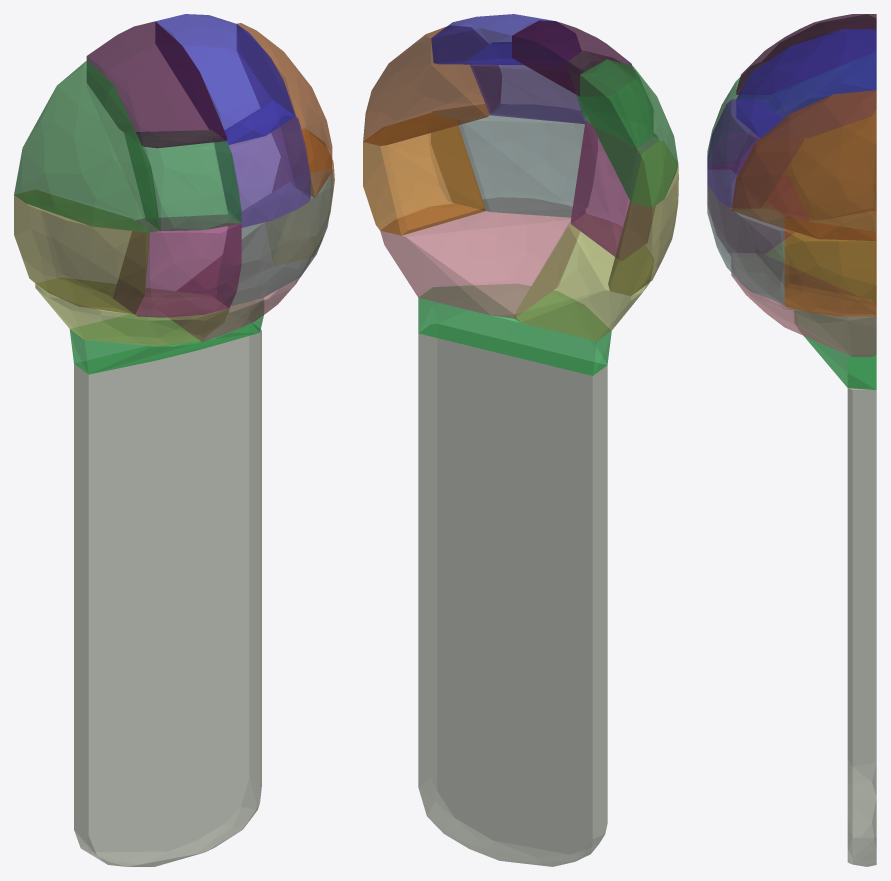
The model's file is orange_spoon_vhacd.obj.
3 renders of one model, left to right at view 1: azimuth 30°, elevation 25°; view 2: azimuth 150°, elevation 25°; view 3: azimuth 270°, elevation 25°, orthographic. The views are drawn at different scales.
Parts seen in each view (by area): view 1: Shape_IndexedFaceSet, Shape_IndexedFaceSet.003, Shape_IndexedFaceSet.006, Shape_IndexedFaceSet.009, Shape_IndexedFaceSet.013, Shape_IndexedFaceSet.007, Shape_IndexedFaceSet.010, Shape_IndexedFaceSet.008, Shape_IndexedFaceSet.012, Shape_IndexedFaceSet.002, Shape_IndexedFaceSet.005, Shape_IndexedFaceSet.001 (+2 smaller); view 2: Shape_IndexedFaceSet, Shape_IndexedFaceSet.004, Shape_IndexedFaceSet.010, Shape_IndexedFaceSet.001, Shape_IndexedFaceSet.011, Shape_IndexedFaceSet.005, Shape_IndexedFaceSet.002, Shape_IndexedFaceSet.003, Shape_IndexedFaceSet.007, Shape_IndexedFaceSet.006, Shape_IndexedFaceSet.013, Shape_IndexedFaceSet.012 (+2 smaller); view 3: Shape_IndexedFaceSet.005, Shape_IndexedFaceSet, Shape_IndexedFaceSet.013, Shape_IndexedFaceSet.011, Shape_IndexedFaceSet.004, Shape_IndexedFaceSet.012, Shape_IndexedFaceSet.006, Shape_IndexedFaceSet.010, Shape_IndexedFaceSet.009, Shape_IndexedFaceSet.002, Shape_IndexedFaceSet.001, Shape_IndexedFaceSet.007 (+2 smaller).
Part boxes in pixels (<box>): Shape_IndexedFaceSet: <box>74,323,261,866</box>; Shape_IndexedFaceSet.003: <box>14,60,160,232</box>; Shape_IndexedFaceSet.006: <box>14,190,149,314</box>; Shape_IndexedFaceSet.009: <box>86,21,226,148</box>; Shape_IndexedFaceSet.013: <box>156,14,295,144</box>; Shape_IndexedFaceSet.007: <box>113,215,241,317</box>; Shape_IndexedFaceSet.010: <box>217,168,333,305</box>; Shape_IndexedFaceSet.008: <box>125,130,241,231</box>; Shape_IndexedFaceSet.012: <box>215,101,310,227</box>; Shape_IndexedFaceSet.002: <box>35,278,228,346</box>; Shape_IndexedFaceSet.005: <box>237,23,332,197</box>; Shape_IndexedFaceSet.001: <box>69,298,263,374</box>; Shape_IndexedFaceSet: <box>418,324,607,866</box>; Shape_IndexedFaceSet.004: <box>380,198,584,318</box>; Shape_IndexedFaceSet.010: <box>431,104,597,217</box>; Shape_IndexedFaceSet.001: <box>418,284,611,375</box>; Shape_IndexedFaceSet.011: <box>363,113,485,235</box>; Shape_IndexedFaceSet.005: <box>363,26,501,145</box>; Shape_IndexedFaceSet.002: <box>514,214,653,341</box>; Shape_IndexedFaceSet.003: <box>580,59,678,207</box>; Shape_IndexedFaceSet.007: <box>571,119,658,259</box>; Shape_IndexedFaceSet.006: <box>608,140,678,296</box>; Shape_IndexedFaceSet.013: <box>431,14,580,64</box>; Shape_IndexedFaceSet.012: <box>469,42,587,124</box>; Shape_IndexedFaceSet.005: <box>731,90,876,241</box>; Shape_IndexedFaceSet: <box>847,356,876,866</box>; Shape_IndexedFaceSet.013: <box>736,29,876,138</box>; Shape_IndexedFaceSet.011: <box>784,219,876,316</box>; Shape_IndexedFaceSet.004: <box>731,254,876,356</box>; Shape_IndexedFaceSet.012: <box>707,99,803,208</box>; Shape_IndexedFaceSet.006: <box>786,111,875,219</box>; Shape_IndexedFaceSet.010: <box>707,170,784,303</box>; Shape_IndexedFaceSet.009: <box>736,14,876,94</box>; Shape_IndexedFaceSet.002: <box>765,211,875,309</box>; Shape_IndexedFaceSet.001: <box>795,310,876,389</box>; Shape_IndexedFaceSet.007: <box>708,137,808,254</box>.
Bounding box in the file's own units: 0.0562 × 0.1538 × 0.0289.
